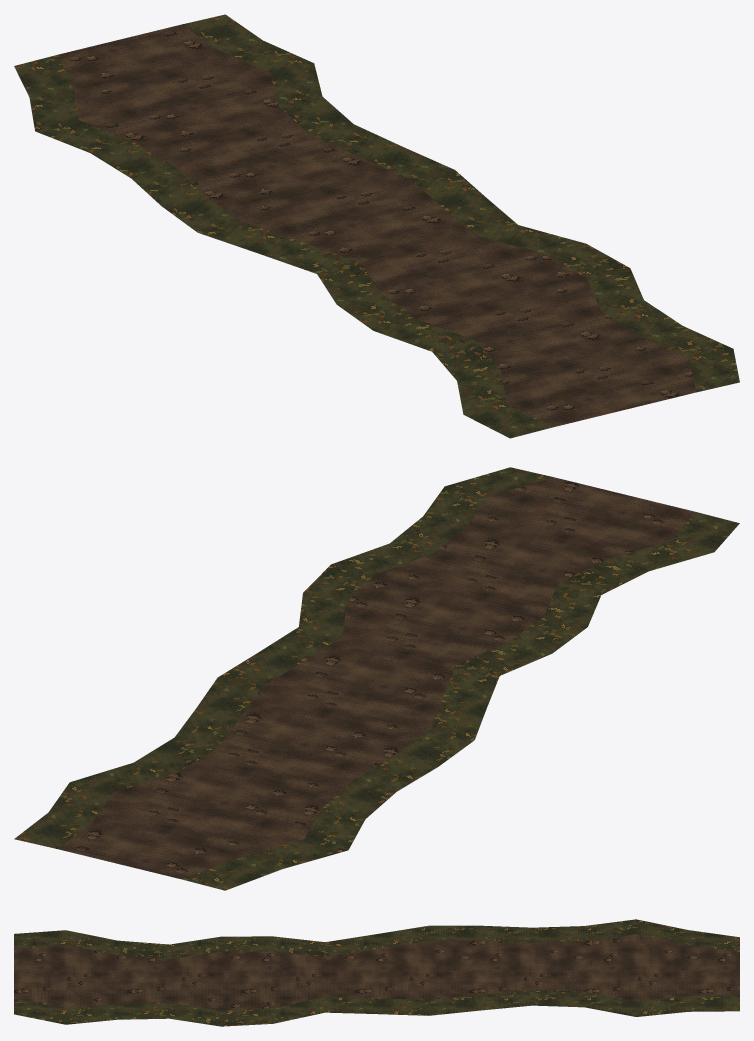
The model's file is sendero.obj.
3 renders of one model, top to bottom at view 1: azimuth 30°, elevation 25°; view 2: azimuth 150°, elevation 25°; view 3: azimuth 270°, elevation 25°, orthographic. The views are drawn at different scales.
Parts seen in each view (by area): view 1: sendero; view 2: sendero; view 3: sendero.
Boxes of the visible parts, x1=… form: sendero: x1=14, y1=14, x2=739, y2=438; sendero: x1=14, y1=467, x2=739, y2=890; sendero: x1=14, y1=919, x2=739, y2=1026.
Size of the model in its own units: 4.9 by 0.01 by 14.
2 materials, 2 textured.
